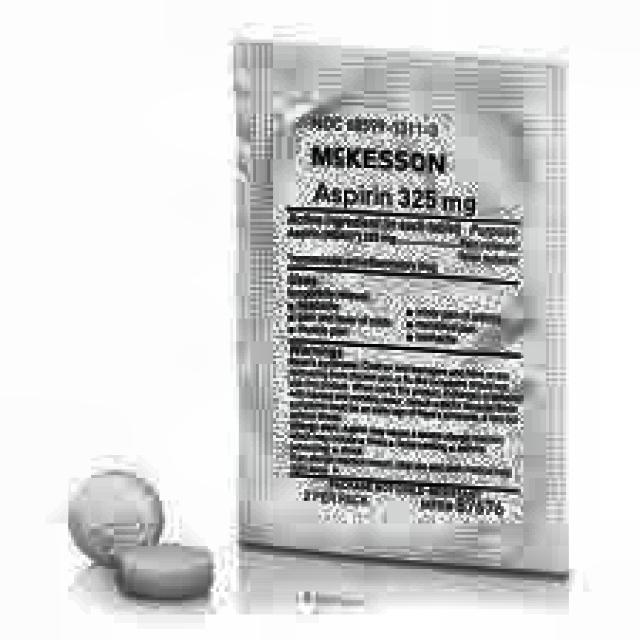Aspirin: (298, 107, 496, 223)
